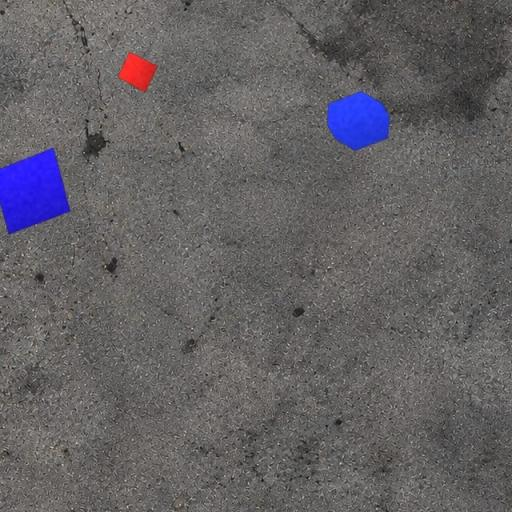BLUE_SQUARE: (0, 148, 71, 234)
RED_SQUARE: (117, 50, 158, 94)
